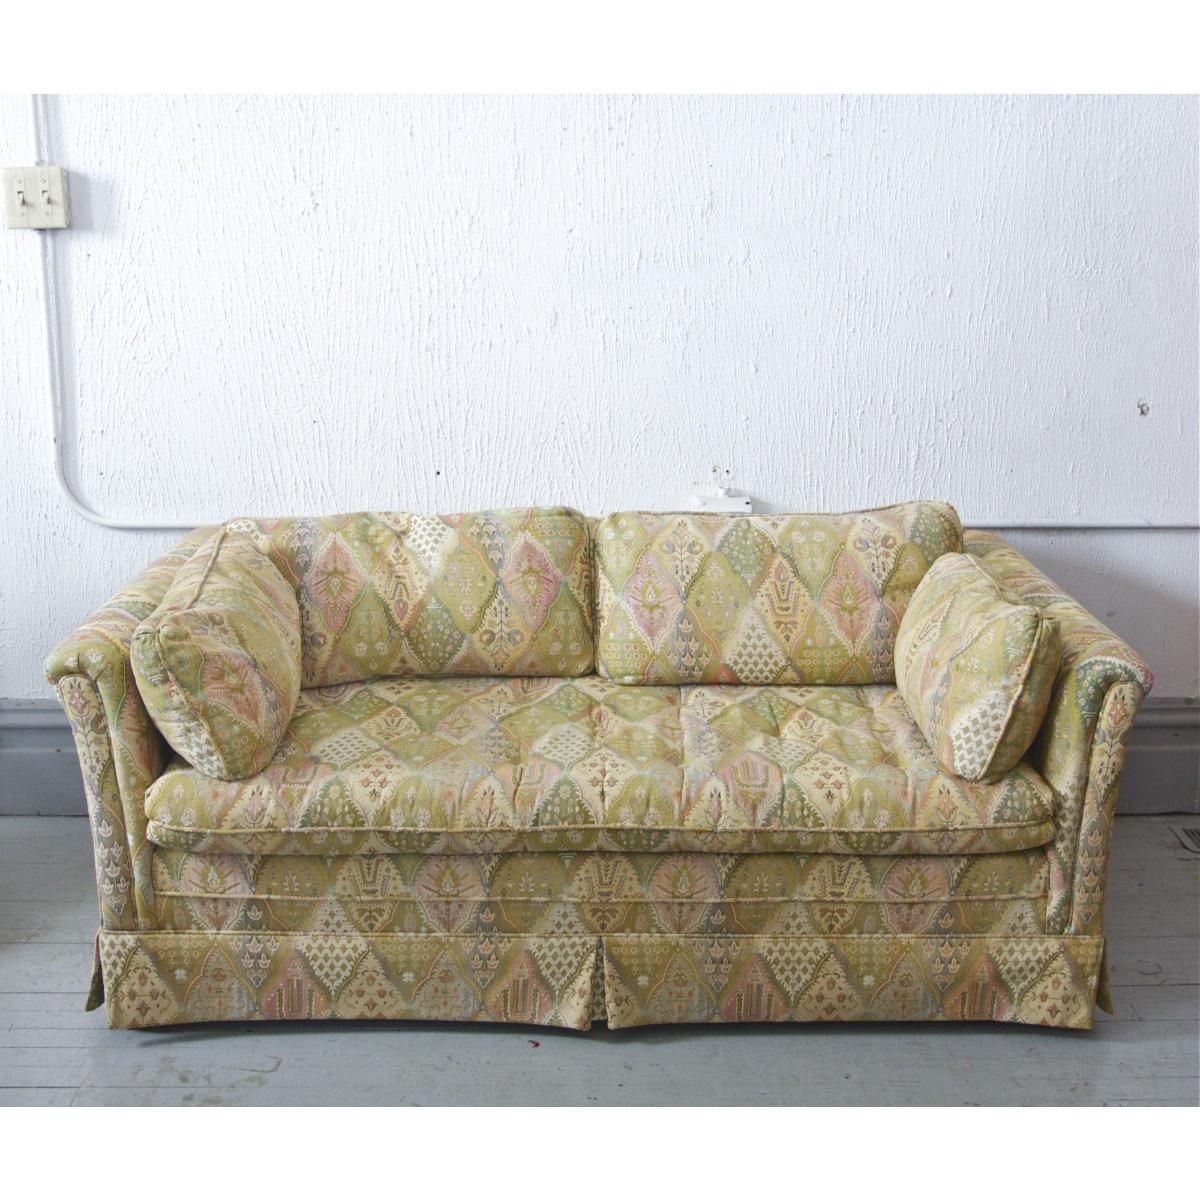Sofa: (48, 503, 1150, 1034)
